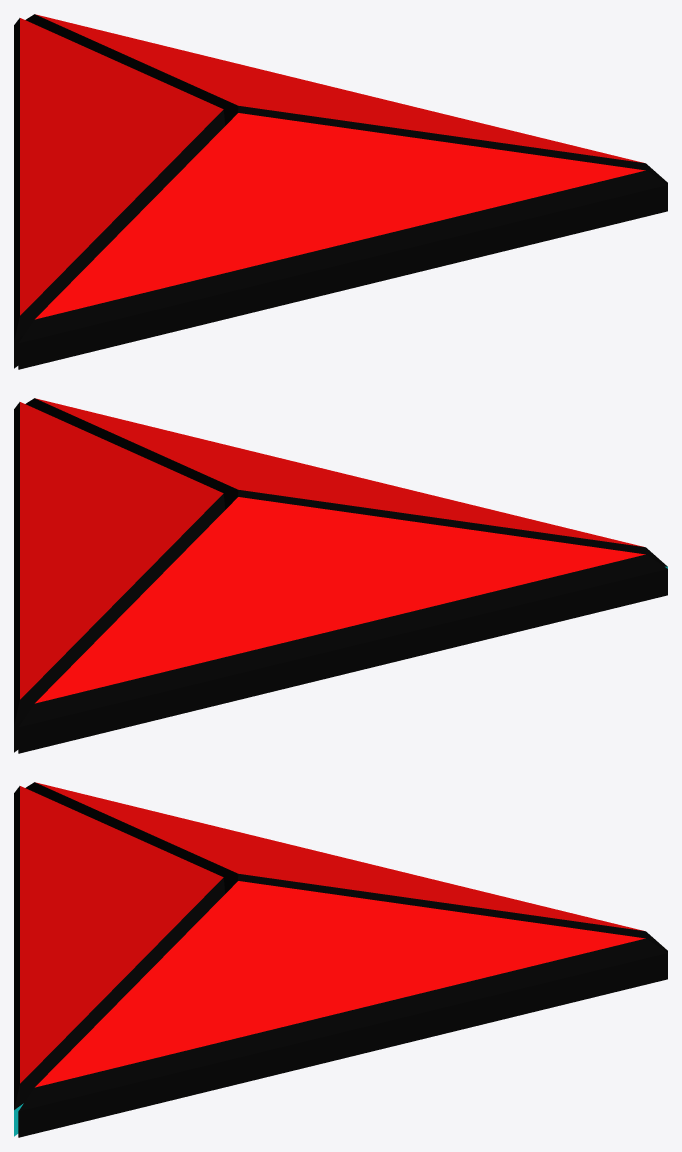
3 renders of one model, top to bottom at view 1: azimuth 30°, elevation 25°; view 2: azimuth 150°, elevation 25°; view 3: azimuth 270°, elevation 25°, orthographic.
Parts seen in each view (by area): view 1: Circle; view 2: Circle; view 3: Circle.
Boxes of the visible parts, left/top/right/bottom form: Circle: left=14, top=14, right=667, bottom=369; Circle: left=14, top=398, right=667, bottom=753; Circle: left=14, top=782, right=667, bottom=1137.
Size of the model in its own units: 142 by 20.99 by 123.
